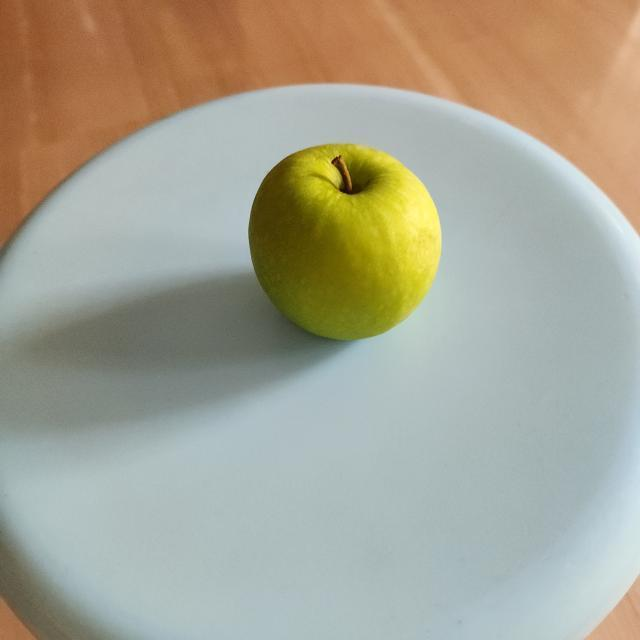apple: (238, 139, 454, 351)
